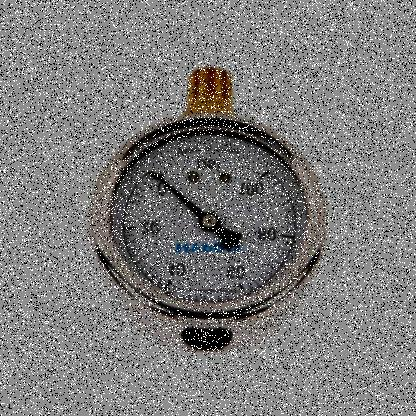needle: (151, 171, 205, 218)
